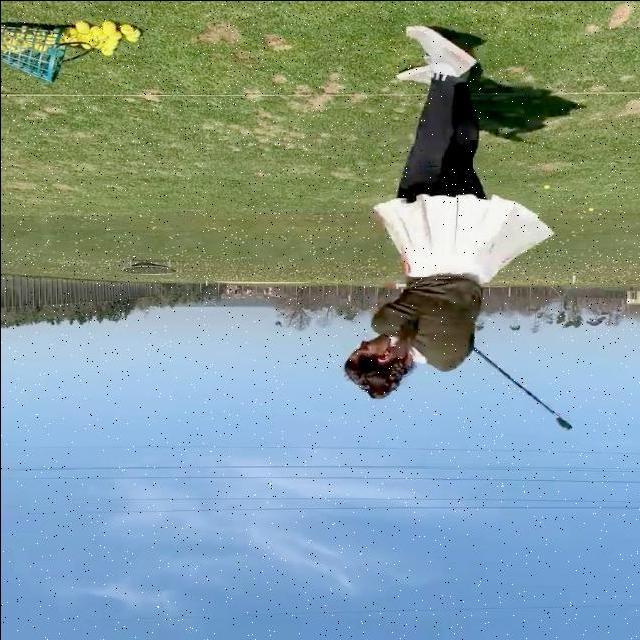golf ball: (74, 21, 89, 32), (16, 38, 29, 50), (127, 27, 140, 38), (60, 29, 70, 43), (78, 32, 95, 40), (44, 32, 55, 44), (7, 38, 17, 51), (32, 33, 44, 43), (119, 24, 132, 33), (100, 19, 113, 28), (107, 30, 120, 38), (79, 40, 92, 48), (68, 34, 78, 44), (104, 25, 116, 33), (92, 39, 104, 47), (69, 23, 77, 35), (100, 49, 115, 55), (94, 32, 105, 40), (1, 30, 12, 38), (89, 25, 101, 32), (34, 44, 46, 50), (102, 44, 116, 49), (0, 38, 6, 49), (104, 39, 117, 44), (126, 35, 137, 40)
golf club-handle: (471, 345, 570, 429)
golf club-head: (554, 416, 570, 429)
